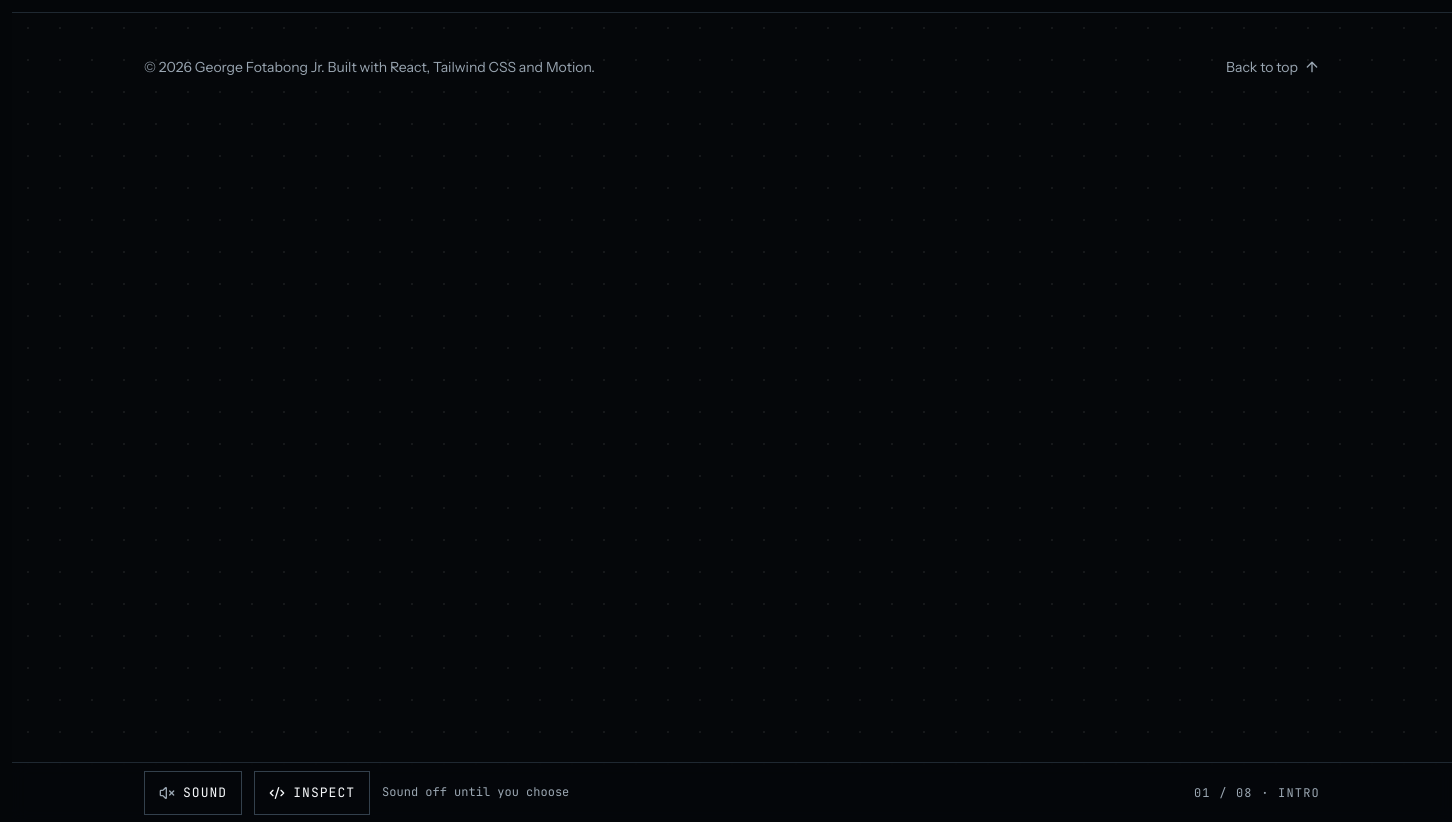
Inspect mode › reveals the notes as real page text
The image size is (1452, 822).
Click the button "Inspect" at (312, 792), box [254,770,370,814]
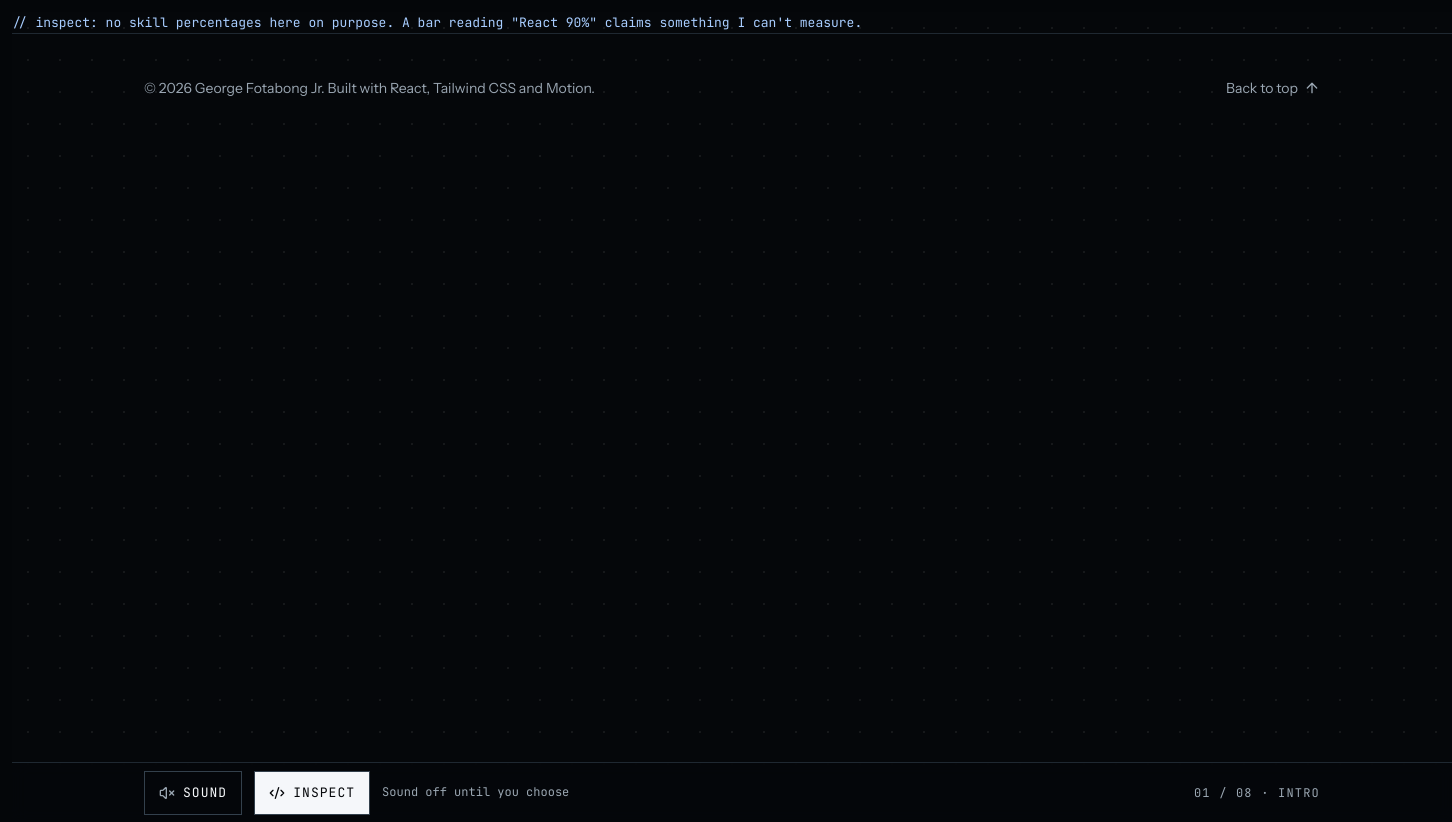
Expected: the text "inspect: no skill percentages" is shown, [12,14,862,31]
